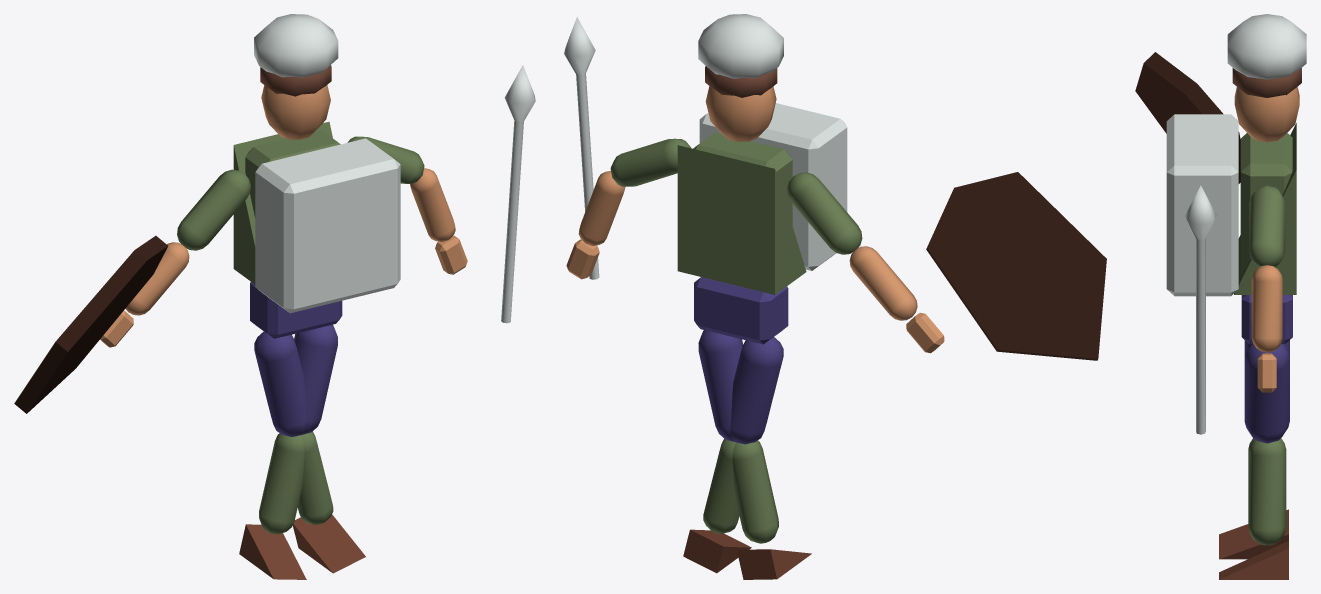
The model's file is adventurer.rustic.glb.
3 renders of one model, left to right at view 1: azimuth 30°, elevation 25°; view 2: azimuth 150°, elevation 25°; view 3: azimuth 270°, elevation 25°, orthographic.
Parts seen in each view (by area): view 1: accessory.body, accessory.off-hand, accessory.head, thigh.left, shin.right, accessory.main-hand, upper-arm.left, thigh.right, head, pelvis, tunic, foot.left (+8 smaller); view 2: accessory.off-hand, tunic, accessory.body, pelvis, accessory.head, thigh.left, shin.right, upper-arm.left, thigh.right, head, forearm.left, accessory.main-hand (+9 smaller); view 3: accessory.body, accessory.head, shin.left, accessory.off-hand, torso, thigh.right, accessory.main-hand, upper-arm.right, head, forearm.right, tunic, foot.left (+4 smaller).
Part boxes in pixels (<box>): accessory.body: <box>255,138,400,313</box>; accessory.off-hand: <box>14,235,167,413</box>; accessory.head: <box>254,14,338,77</box>; thigh.left: <box>254,331,306,436</box>; shin.right: <box>259,433,304,534</box>; accessory.main-hand: <box>501,65,535,323</box>; upper-arm.left: <box>177,169,250,250</box>; thigh.right: <box>294,324,337,434</box>; head: <box>261,85,330,139</box>; pelvis: <box>250,282,342,338</box>; tunic: <box>233,121,332,284</box>; foot.left: <box>292,514,365,573</box>; accessory.off-hand: <box>926,172,1106,360</box>; tunic: <box>677,145,806,294</box>; accessory.body: <box>699,103,847,270</box>; pelvis: <box>694,277,788,344</box>; accessory.head: <box>698,14,783,78</box>; thigh.left: <box>730,337,783,444</box>; shin.right: <box>732,440,778,543</box>; upper-arm.left: <box>787,172,862,254</box>; thigh.right: <box>698,330,743,441</box>; head: <box>705,86,776,141</box>; forearm.left: <box>849,246,917,320</box>; accessory.main-hand: <box>564,17,599,279</box>; accessory.body: <box>1166,114,1238,296</box>; accessory.head: <box>1227,14,1306,79</box>; shin.left: <box>1248,439,1286,545</box>; accessory.off-hand: <box>1135,52,1240,183</box>; torso: <box>1240,133,1292,272</box>; thigh.right: <box>1244,344,1289,443</box>; accessory.main-hand: <box>1185,185,1216,434</box>; upper-arm.right: <box>1249,185,1285,267</box>; head: <box>1234,87,1299,142</box>; forearm.right: <box>1251,265,1282,352</box>; tunic: <box>1234,123,1296,294</box>; foot.left: <box>1219,541,1288,579</box>.
Size of the model in its own units: 3.22 by 3.18 by 0.9041.
